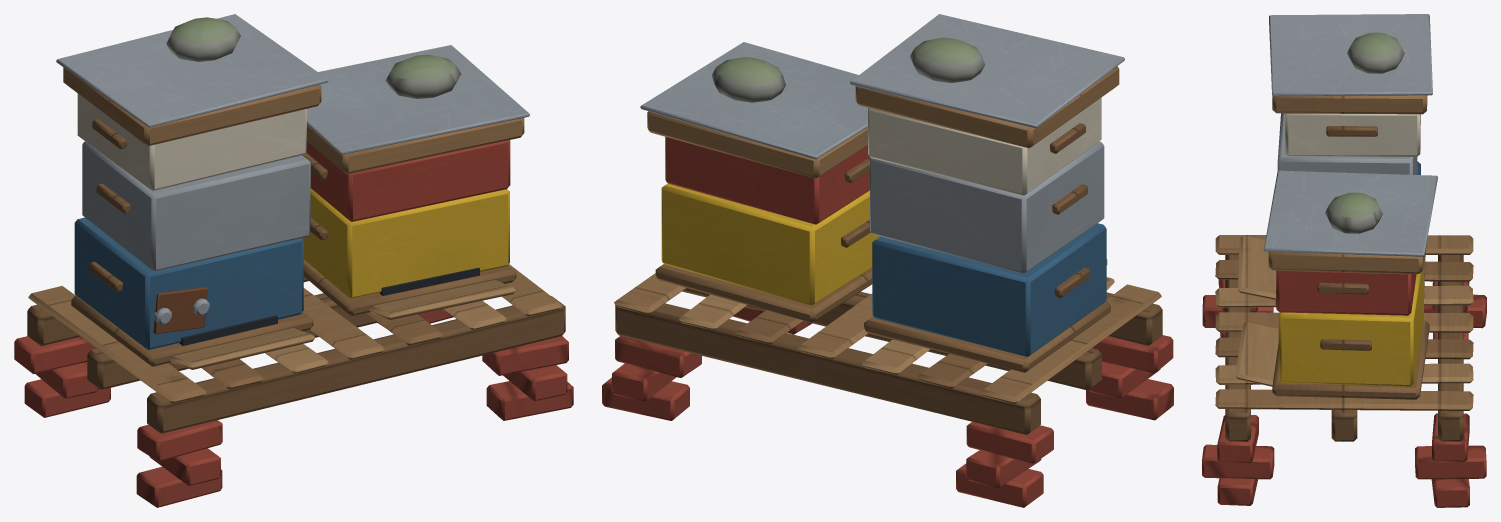
The model's file is beehive_boxes.glb.
3 views of the same model, side by side, from view 1: azimuth 30°, elevation 25°; view 2: azimuth 150°, elevation 25°; view 3: azimuth 270°, elevation 25° (orthographic). The views are drawn at different scales.
Visible parts, largest first — view 1: beehive_boxes; view 2: beehive_boxes; view 3: beehive_boxes.
Part boxes in pixels (left/top/right/bottom): beehive_boxes: left=14, top=14, right=573, bottom=507; beehive_boxes: left=602, top=14, right=1173, bottom=507; beehive_boxes: left=1202, top=14, right=1486, bottom=507.
Size of the model in its own units: 1.36 by 1.19 by 0.8849.
15 materials, 15 textured.
